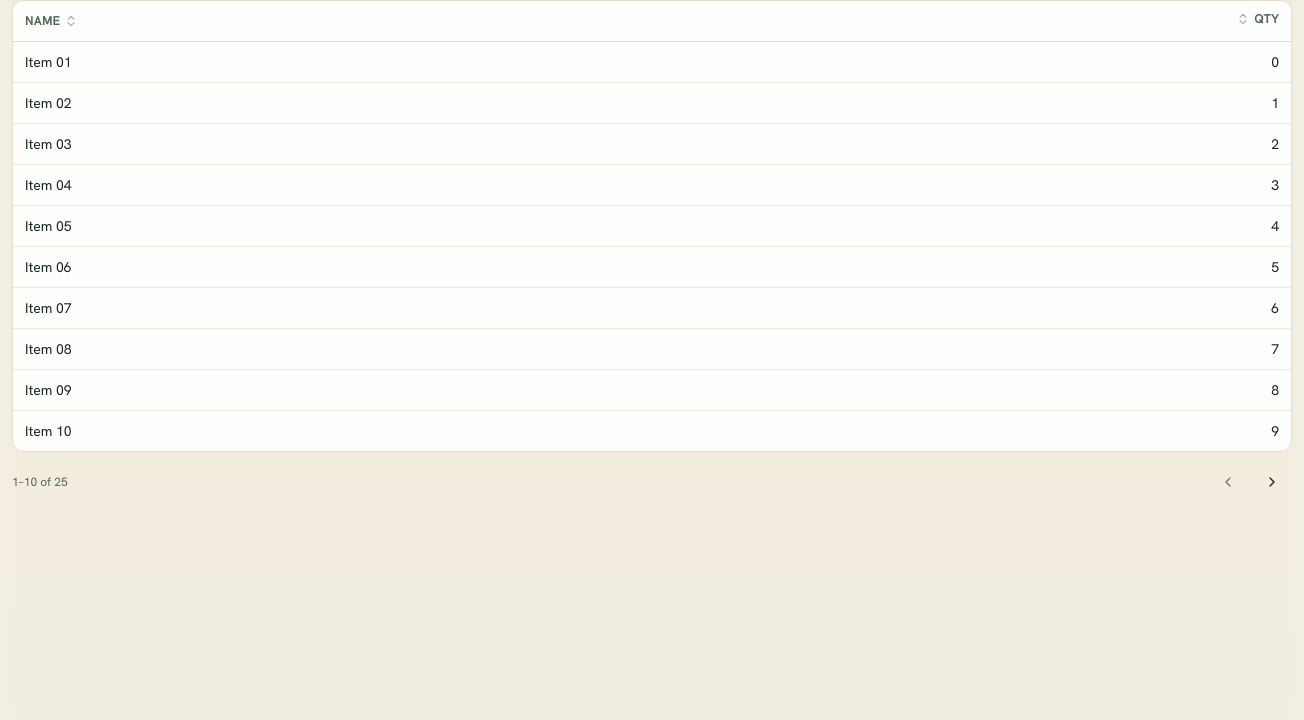
Test: DataTable › paginates: slices rows, shows the range, and navigates with prev/next
expect the text "1–10 of 25" is shown: met, box [12,474,68,490]
expect the button named "Previous page" is disabled: met, box [1208,464,1248,500]
Click the button named "Next page". click: {"x": 1272, "y": 482}
box: [1252,464,1292,500]
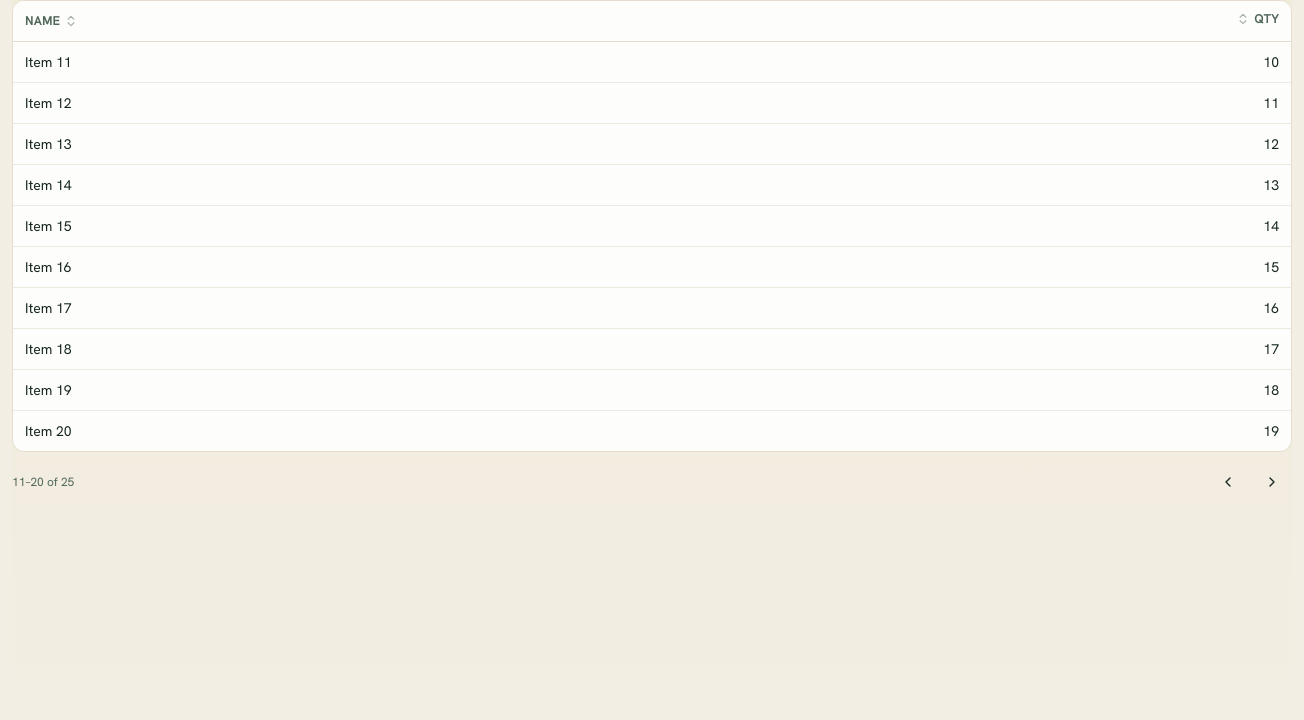
expect the text "11–20 of 25" is shown: met, box [12,474,74,490]
expect the cell "Item 11" is shown: met, box [13,41,699,82]
Click the button named "Next page". click: {"x": 1272, "y": 482}
box: [1252,464,1292,500]
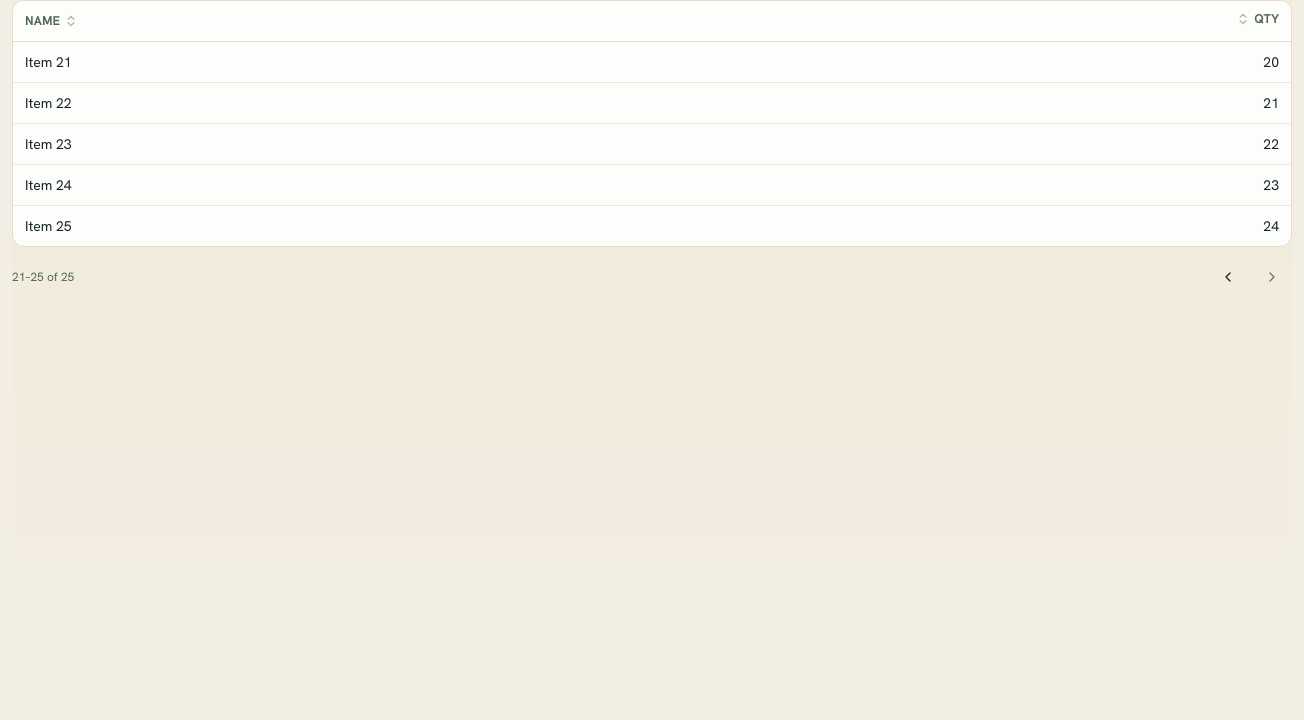
expect the text "21–25 of 25" is shown: met, box [12,268,74,284]
expect the button named "Next page" is disabled: met, box [1252,258,1292,294]
